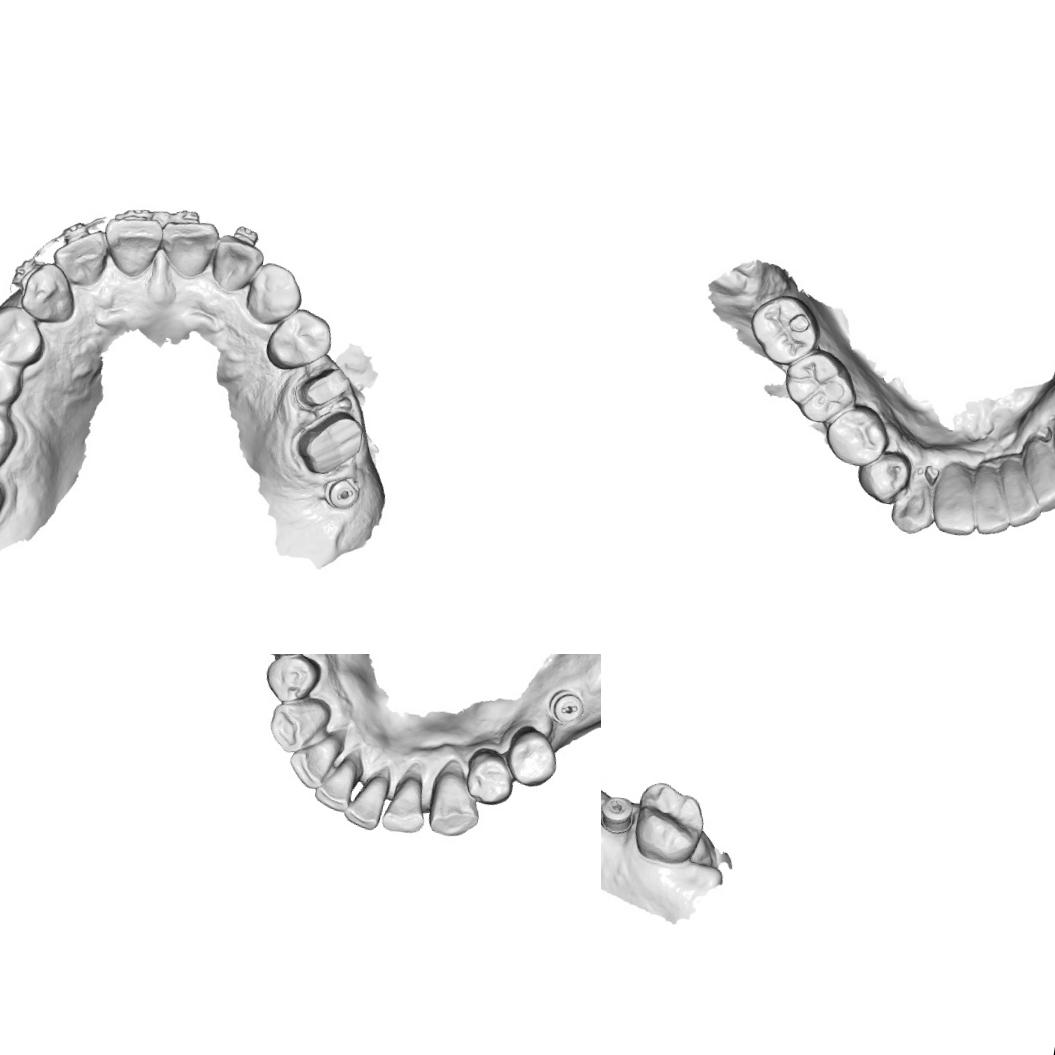canine: (421, 766, 488, 842), (263, 690, 335, 760), (240, 258, 308, 330), (16, 257, 81, 328), (886, 470, 944, 540), (1042, 413, 1055, 484)
crown: (290, 402, 372, 482), (292, 358, 355, 416)
implant_minus: (546, 684, 590, 729), (321, 471, 364, 515), (601, 792, 636, 835)
incisor: (97, 210, 168, 284), (152, 213, 223, 285), (927, 459, 987, 541), (48, 222, 116, 292), (992, 456, 1052, 534), (964, 459, 1020, 540), (283, 728, 347, 796), (207, 232, 269, 297), (376, 770, 434, 838), (338, 767, 394, 834), (308, 750, 361, 818), (1014, 433, 1055, 518)
molar: (626, 776, 712, 870), (742, 288, 825, 373), (778, 347, 858, 430), (0, 388, 25, 476)
premolar: (260, 302, 337, 380), (820, 401, 897, 473), (500, 722, 562, 793), (851, 444, 916, 510), (460, 744, 520, 811), (0, 298, 52, 369), (260, 654, 326, 709), (0, 348, 29, 411)
